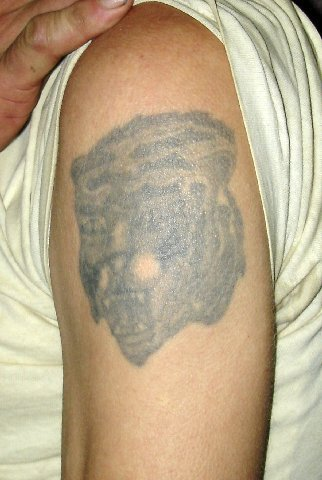tatu5_tigr: (68, 112, 247, 369)
